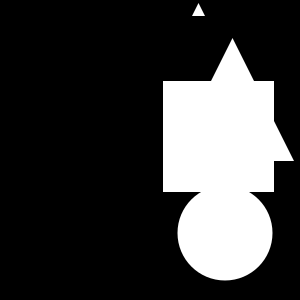circle: (163, 81, 274, 192)
rectangle: (178, 186, 272, 280)
triangle: (171, 38, 294, 161), (192, 3, 205, 16)
